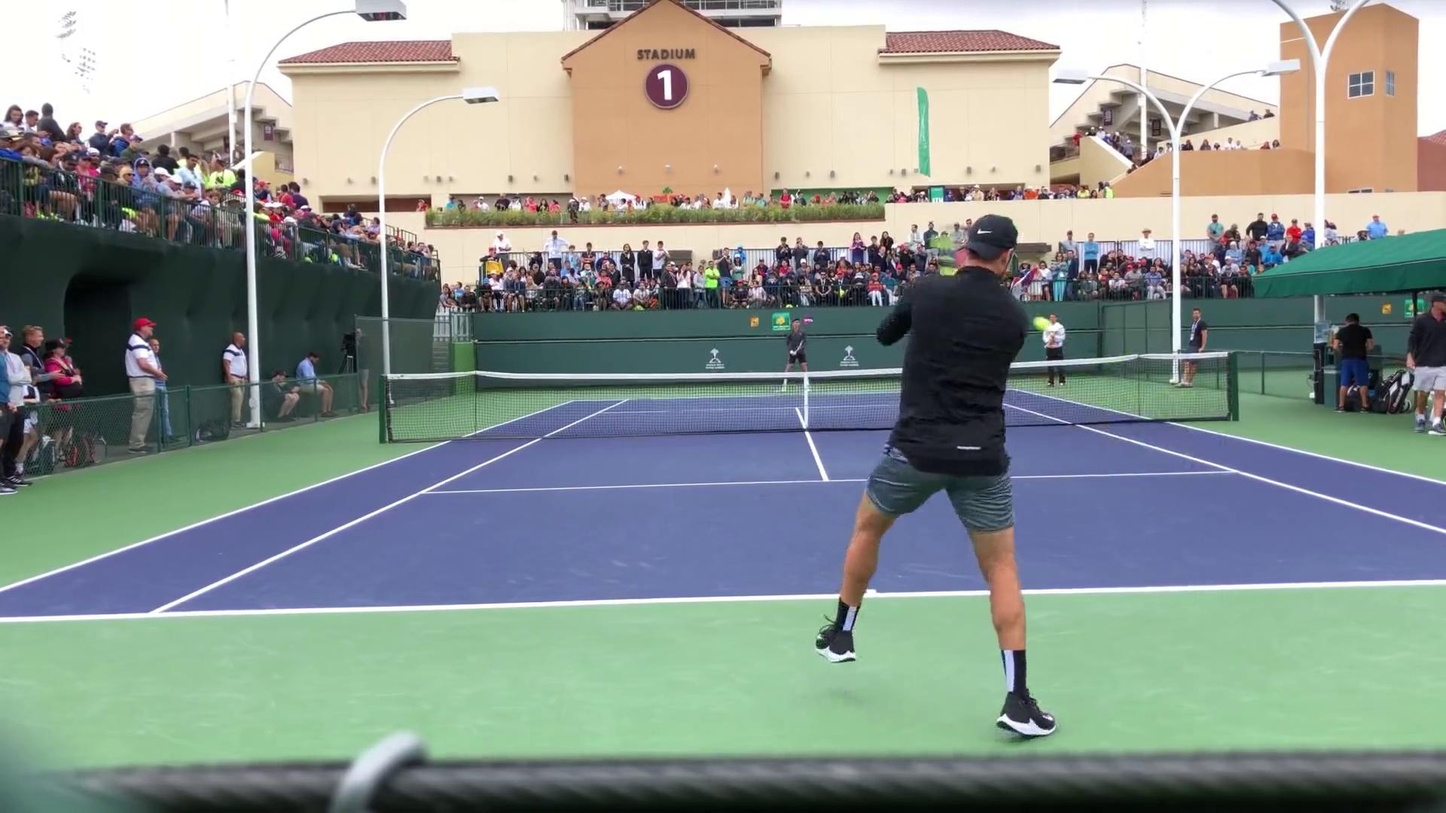ball: (1031, 316, 1051, 332)
